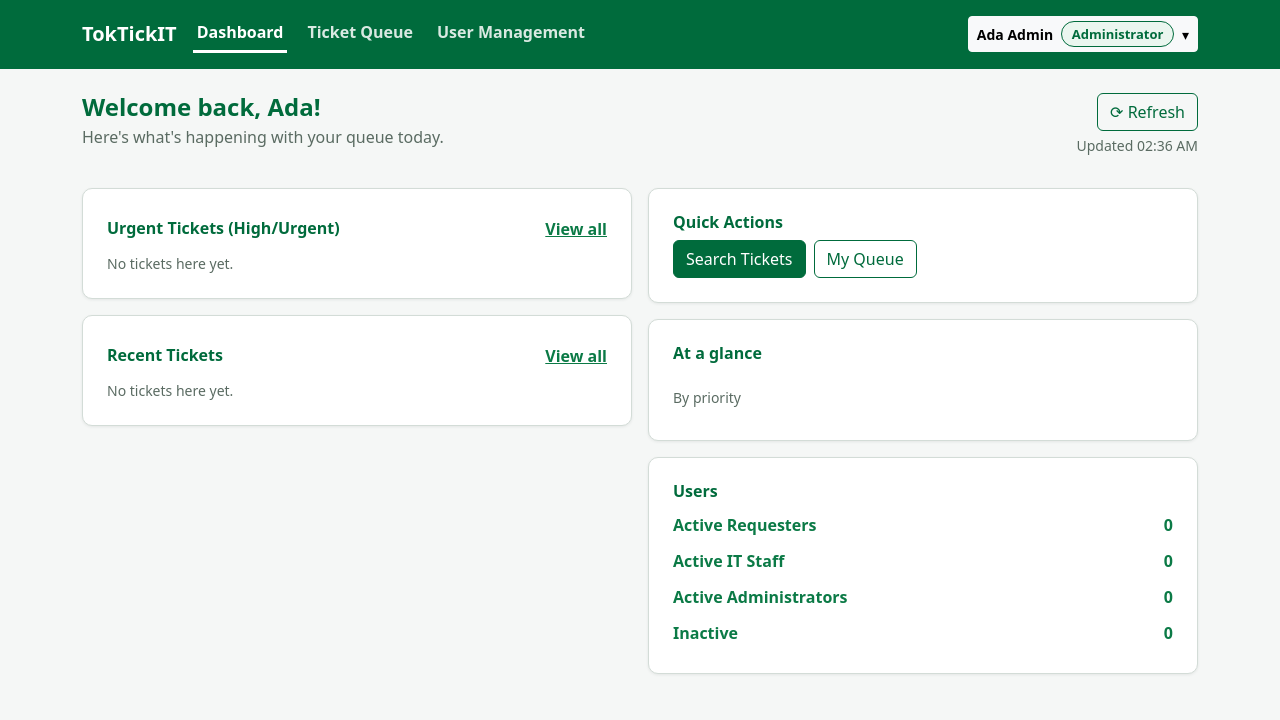
it: Role navigation after sign-in (AC-18) › lands an Administrator on the Dashboard, with User Management and Ticket Queue reachable
The image size is (1280, 720).
Expected: the text with test id "signed-in-user" reads "Ada Admin", [977,25,1053,44]
Expected: the heading "Welcome back, Ada!" is shown, [82,90,320,123]
Click the button "User Management": click(511, 34) [433,16,589,53]
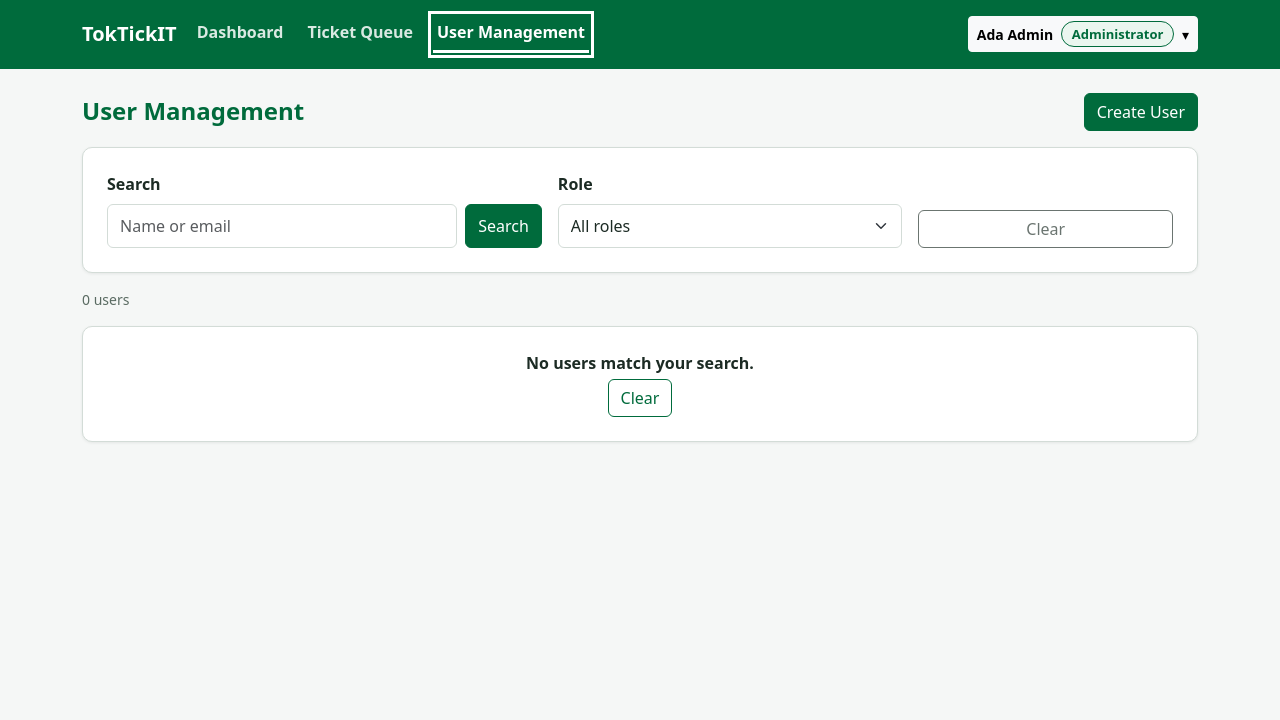
Result: the heading "User Management" is shown at [82,97,304,126]
